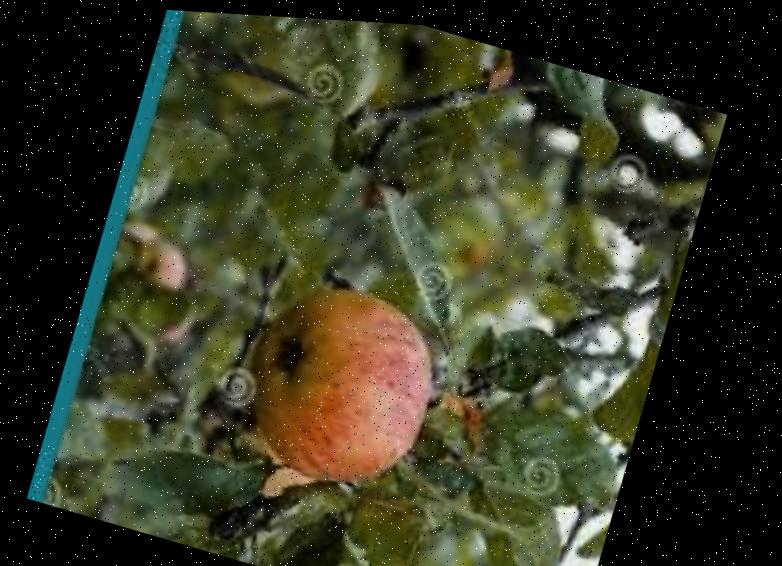HEALTHY: (228, 250, 482, 525)
